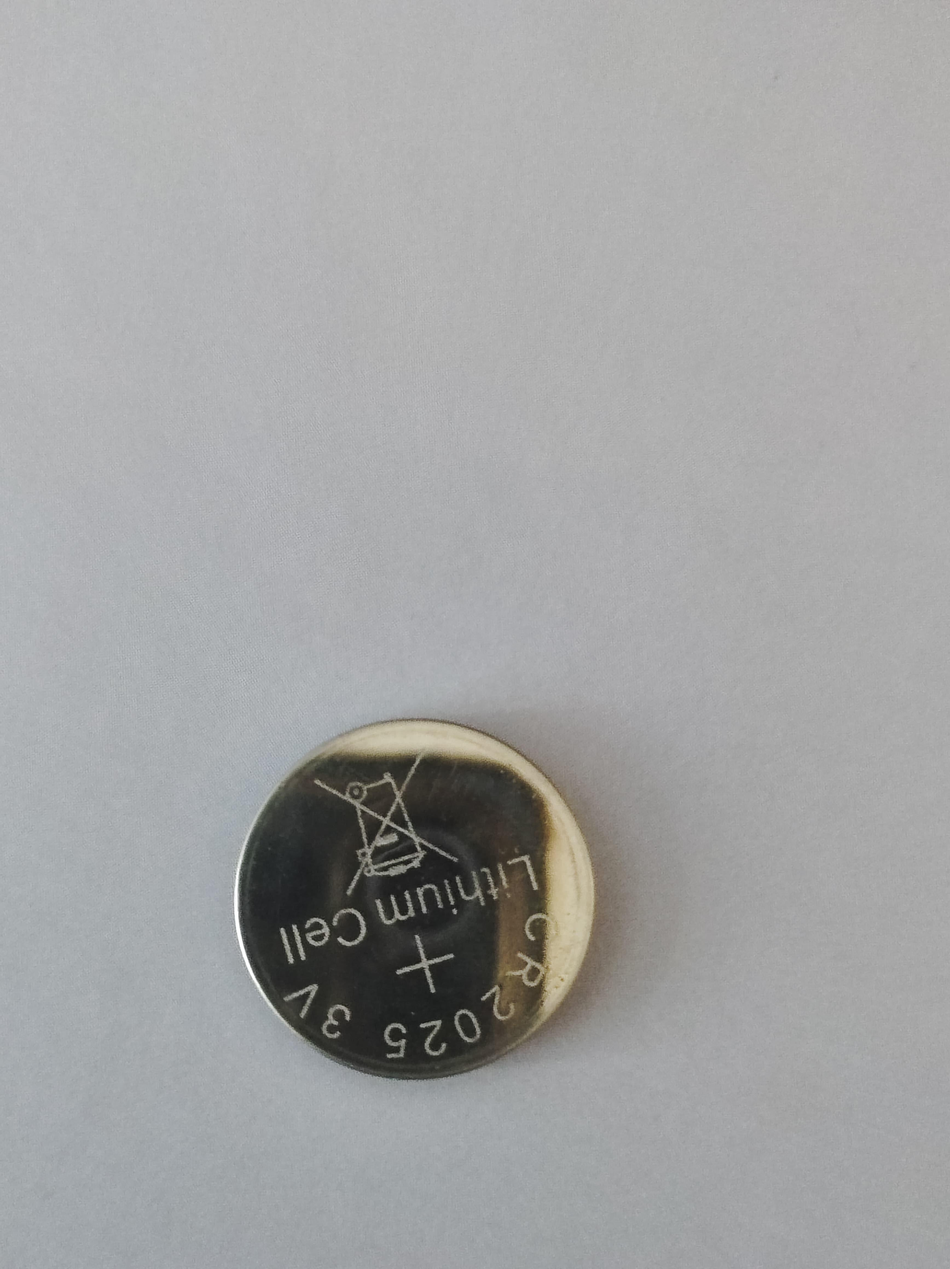COIN: (233, 716, 596, 1080)
